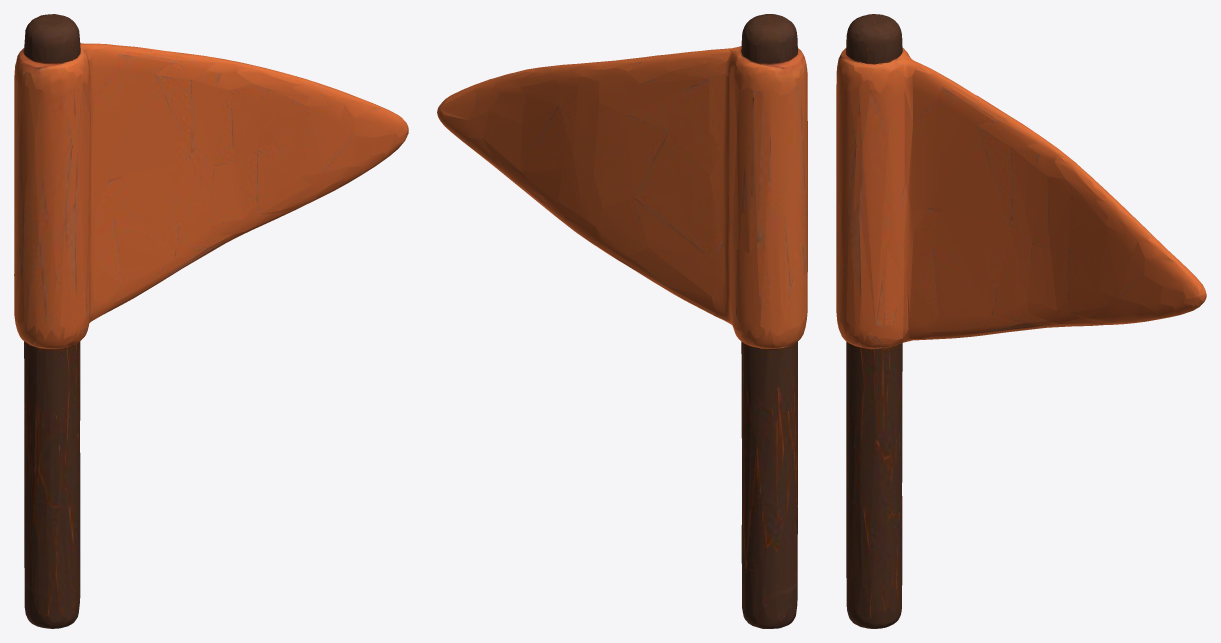
Rendered from hand_flag.fbx.
3 renders of one model, left to right at view 1: azimuth 30°, elevation 25°; view 2: azimuth 150°, elevation 25°; view 3: azimuth 330°, elevation 25°, orthographic.
Parts seen in each view (by area): view 1: Mesh_0; view 2: Mesh_0; view 3: Mesh_0.
Boxes of the visible parts, x1,y1,x2,y2 form: Mesh_0: (14, 14, 408, 628); Mesh_0: (437, 14, 807, 628); Mesh_0: (836, 14, 1206, 628).
Bounding box in the file's own units: 1.24 × 1.9 × 0.2181.
Materials: 1 (1 with a texture image).
